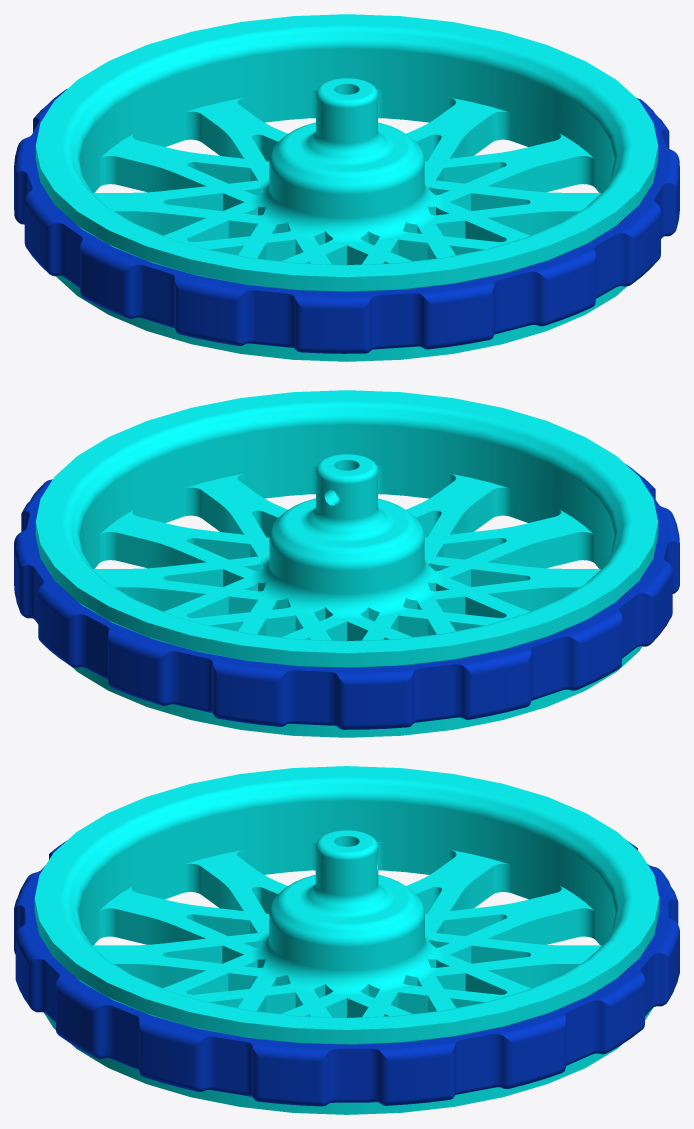
The model's file is wheel.gltf.
3 renders of one model, top to bottom at view 1: azimuth 30°, elevation 25°; view 2: azimuth 150°, elevation 25°; view 3: azimuth 270°, elevation 25°, orthographic.
Visible parts, largest first — view 1: NAUO2, NAUO1; view 2: NAUO2, NAUO1; view 3: NAUO2, NAUO1.
Part boxes in pixels (bbox=[...]): NAUO2: bbox=[35, 14, 658, 361]; NAUO1: bbox=[14, 89, 679, 353]; NAUO2: bbox=[35, 390, 658, 737]; NAUO1: bbox=[14, 464, 679, 729]; NAUO2: bbox=[34, 766, 659, 1114]; NAUO1: bbox=[14, 841, 679, 1106].
Size of the model in its own units: 0.1066 by 0.025 by 0.1066.
